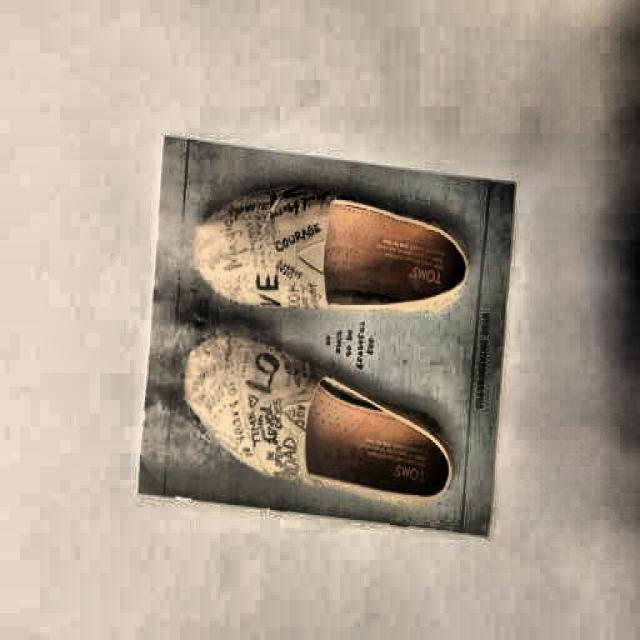paper: (133, 131, 510, 546)
